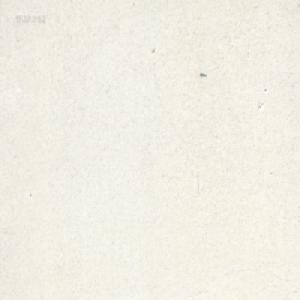Nail: (199, 71, 206, 77)
